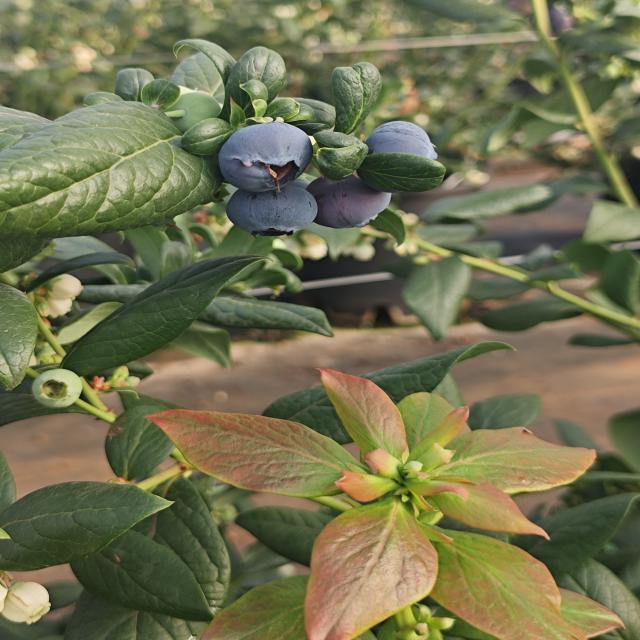ripe: (215, 118, 318, 188), (355, 114, 448, 186), (220, 181, 320, 240), (308, 176, 401, 232)
